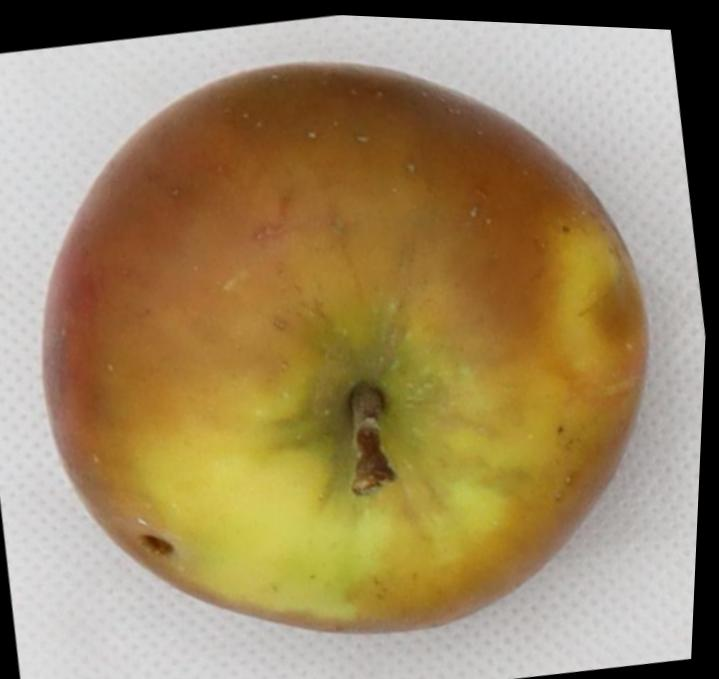apple: (42, 66, 645, 632)
rot_mold_decay: (42, 64, 573, 512)
surface_damage: (138, 534, 171, 554)
